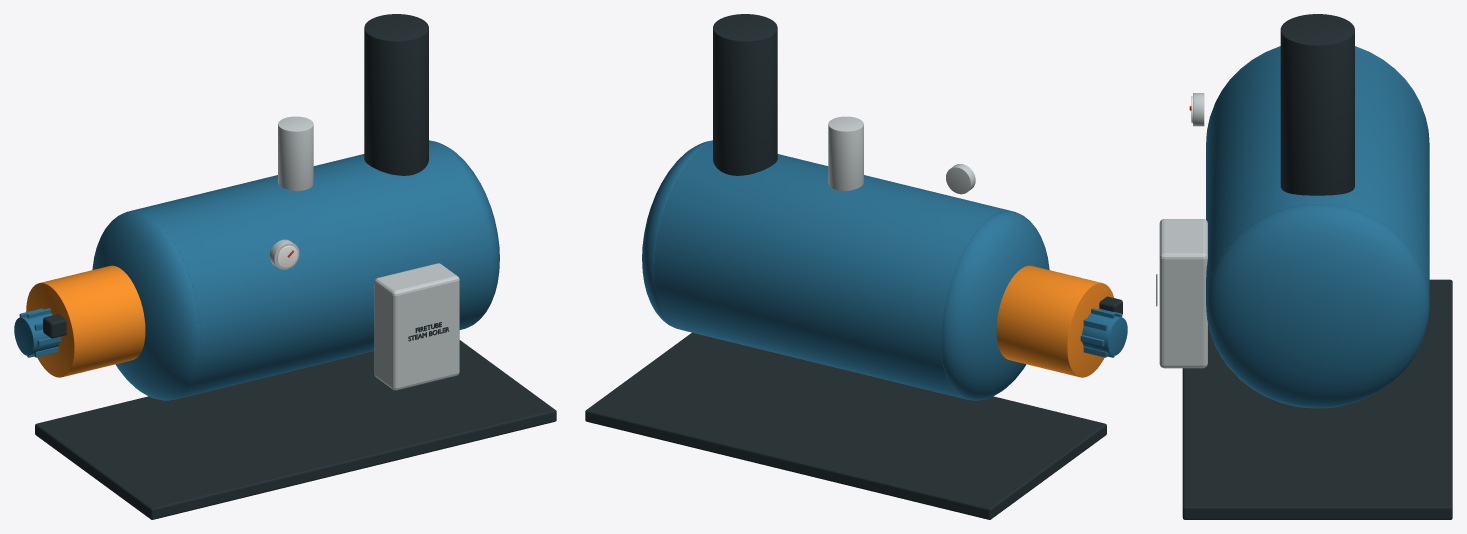
The model's file is horizontal_firetube_boiler.glb.
The picture shows the model from 3 angles, left to right: view 1: azimuth 30°, elevation 25°; view 2: azimuth 150°, elevation 25°; view 3: azimuth 270°, elevation 25°; orthographic projection. The views are drawn at different scales.
Visible parts, largest first — view 1: BOILER_SHELL, BASE, FRONT_HEAD, STACK, BOILER_CONTROL, BURNER, STEAM_OUT, REAR_HEAD, BURNER_BLOWER; view 2: BOILER_SHELL, BASE, FRONT_HEAD, STACK, BURNER, STEAM_OUT, REAR_HEAD, BURNER_BLOWER, GAUGE_BODY; view 3: BASE, REAR_HEAD, BOILER_SHELL, STACK, BOILER_CONTROL, GAUGE_BODY, FRONT_HEAD.
Part boxes in pixels (<box>): BOILER_SHELL: <box>130,142,487,398</box>; BASE: <box>35,340,556,519</box>; FRONT_HEAD: <box>92,210,200,400</box>; STACK: <box>364,14,428,175</box>; BOILER_CONTROL: <box>374,263,459,390</box>; BURNER: <box>26,265,145,377</box>; STEAM_OUT: <box>278,116,313,191</box>; REAR_HEAD: <box>429,140,499,328</box>; BURNER_BLOWER: <box>14,313,59,355</box>; BOILER_SHELL: <box>654,142,1011,398</box>; BASE: <box>585,332,1106,519</box>; FRONT_HEAD: <box>941,210,1049,400</box>; STACK: <box>713,14,777,175</box>; BURNER: <box>996,265,1113,377</box>; STEAM_OUT: <box>828,116,863,191</box>; REAR_HEAD: <box>642,140,712,328</box>; BURNER_BLOWER: <box>1082,313,1127,355</box>; GAUGE_BODY: <box>946,164,975,194</box>; BASE: <box>1182,279,1452,519</box>; REAR_HEAD: <box>1206,204,1429,408</box>; BOILER_SHELL: <box>1206,48,1429,315</box>; STACK: <box>1280,14,1354,195</box>; BOILER_CONTROL: <box>1159,219,1207,368</box>; GAUGE_BODY: <box>1193,93,1204,126</box>; FRONT_HEAD: <box>1207,46,1428,130</box>.
Size of the model in its own units: 3.39 by 2.57 by 1.59.
